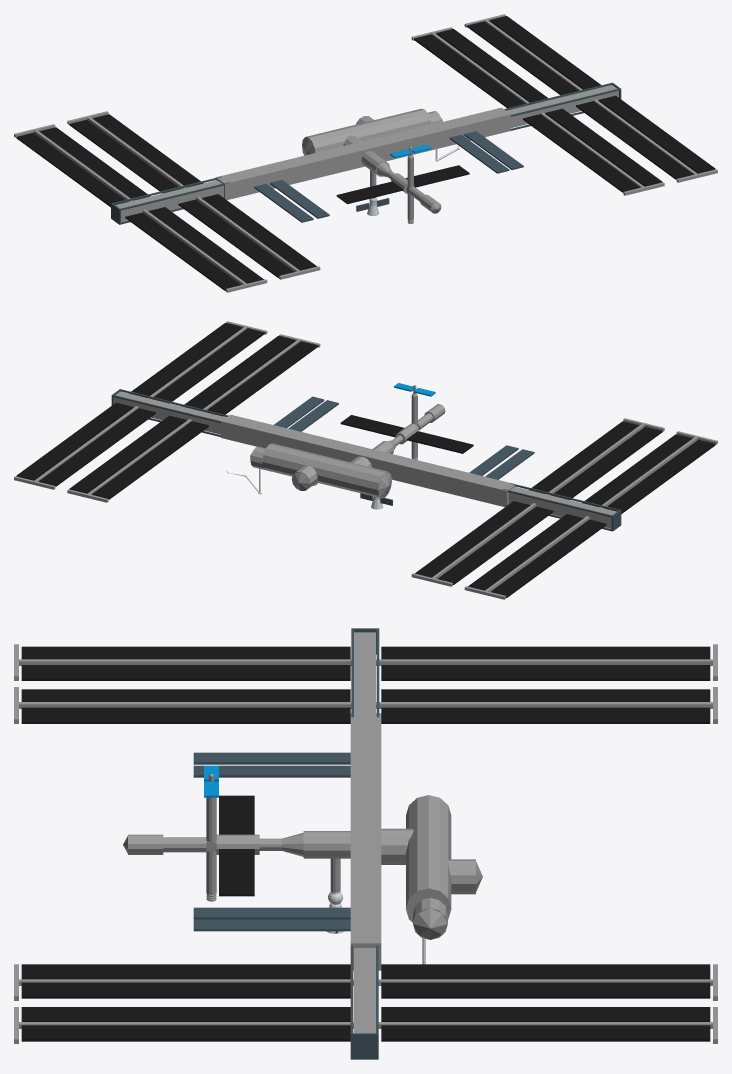
The model's file is ISS.glb.
3 renders of one model, top to bottom at view 1: azimuth 30°, elevation 25°; view 2: azimuth 150°, elevation 25°; view 3: azimuth 270°, elevation 25°, orthographic. The views are drawn at different scales.
Visible parts, largest first — view 1: group1820089546, group1813008252, group1916550990, group741643234, group1621563542, group1911968224, group1407233952, group1498492419, group1967902491, group1303629631, group1185717702, group456053421; view 2: group1820089546, group1813008252, group1916550990, group741643234, group1621563542, group1911968224, group1407233952, group456053421, group1185717702, group1498492419, group1967902491, group1303629631; view 3: group1820089546, group1813008252, group741643234, group1916550990, group1967902491, group1498492419, group1185717702, group1303629631, group456053421, group1407233952, group1911968224, group993433615 (+4 smaller).
Part boxes in pixels (bbox=[...]): group1820089546: bbox=[411, 14, 717, 195]; group1813008252: bbox=[14, 111, 320, 292]; group1916550990: bbox=[215, 107, 510, 199]; group741643234: bbox=[302, 108, 442, 155]; group1621563542: bbox=[111, 176, 229, 224]; group1911968224: bbox=[504, 82, 621, 130]; group1407233952: bbox=[336, 181, 403, 204]; group1498492419: bbox=[449, 134, 509, 173]; group1967902491: bbox=[254, 184, 313, 222]; group1303629631: bbox=[270, 180, 329, 218]; group1185717702: bbox=[464, 131, 523, 169]; group456053421: bbox=[405, 165, 469, 187]; group1820089546: bbox=[14, 321, 320, 502]; group1813008252: bbox=[411, 418, 717, 599]; group1916550990: bbox=[221, 414, 515, 506]; group741643234: bbox=[250, 443, 391, 498]; group1621563542: bbox=[503, 483, 621, 531]; group1911968224: bbox=[111, 389, 228, 436]; group1407233952: bbox=[407, 431, 473, 453]; group456053421: bbox=[340, 415, 404, 437]; group1185717702: bbox=[274, 396, 324, 428]; group1498492419: bbox=[288, 400, 338, 431]; group1967902491: bbox=[485, 449, 534, 479]; group1303629631: bbox=[469, 445, 518, 475]; group1820089546: bbox=[14, 948, 717, 1043]; group1813008252: bbox=[14, 632, 717, 723]; group741643234: bbox=[381, 795, 482, 939]; group1916550990: bbox=[350, 713, 381, 970]; group1967902491: bbox=[193, 752, 350, 764]; group1498492419: bbox=[193, 907, 350, 919]; group1185717702: bbox=[193, 919, 350, 931]; group1303629631: bbox=[193, 765, 350, 777]; group456053421: bbox=[219, 849, 254, 896]; group1407233952: bbox=[219, 795, 254, 834]; group1911968224: bbox=[350, 945, 378, 1059]; group993433615: bbox=[303, 831, 350, 858].
Bounding box in the file's own units: 3.77 × 0.68 × 2.78.
